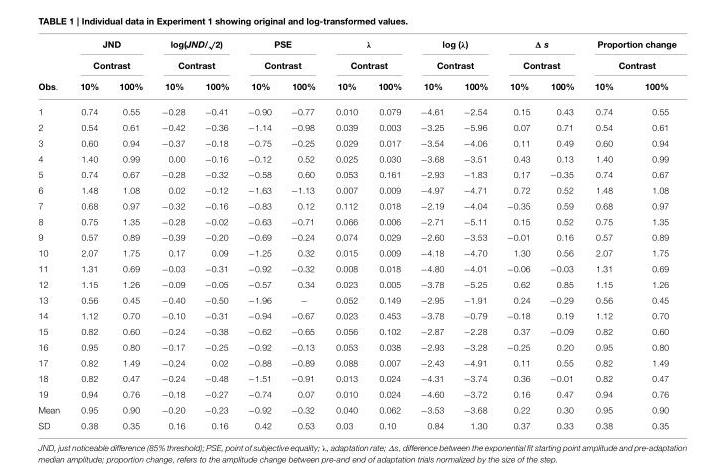table: (37, 37, 675, 430)
table column: (628, 37, 675, 430), (280, 37, 325, 430), (583, 37, 628, 430), (539, 37, 583, 430), (108, 37, 151, 430), (151, 37, 194, 430), (194, 37, 237, 430), (237, 37, 280, 430), (367, 37, 410, 430), (410, 37, 453, 430), (453, 37, 496, 430), (496, 37, 539, 430), (325, 37, 367, 430), (69, 37, 108, 430), (37, 37, 69, 430)
table column header: (37, 37, 675, 99)
table row: (37, 75, 675, 99), (37, 99, 675, 122), (37, 54, 675, 75), (37, 37, 675, 54), (37, 122, 675, 138), (37, 138, 675, 154), (37, 169, 675, 185), (37, 185, 675, 201), (37, 216, 675, 232), (37, 232, 675, 248), (37, 248, 675, 264), (37, 279, 675, 295), (37, 295, 675, 311), (37, 326, 675, 342), (37, 342, 675, 358), (37, 373, 675, 389), (37, 389, 675, 405), (37, 154, 675, 169), (37, 201, 675, 216), (37, 264, 675, 279), (37, 311, 675, 326), (37, 358, 675, 373), (37, 405, 675, 420), (37, 420, 675, 430)
table spanning cell: (583, 37, 675, 75), (237, 37, 325, 75), (496, 37, 583, 75), (151, 37, 237, 75), (410, 37, 496, 75), (325, 37, 410, 75), (69, 37, 151, 75), (37, 37, 69, 99)
